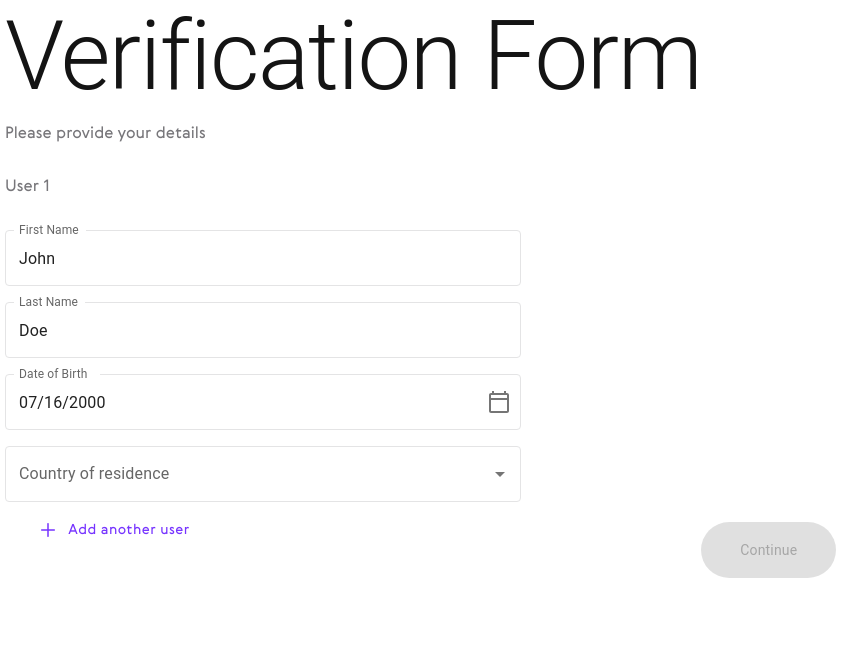
it: BusinessDetailsForm › should disabled the continue button &  display error message on the wrong first/last name input
Step 1. Replace the text in the field labelled "First Name" with "Rose1" → (263, 258), box [5,230,521,286]
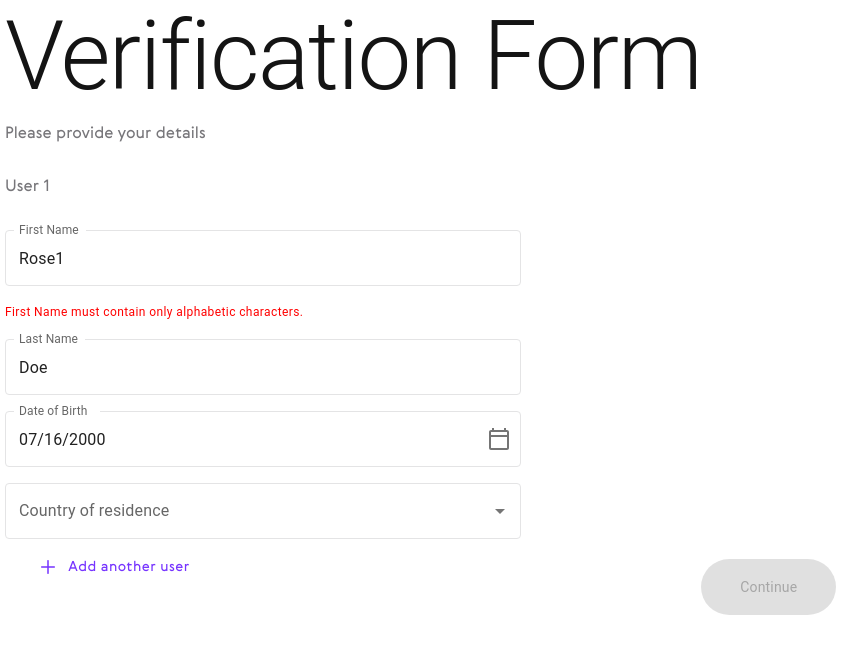
Step 2. Replace the text in the field labelled "Last Name" with "Genner1" → (263, 367), box [5,339,521,395]
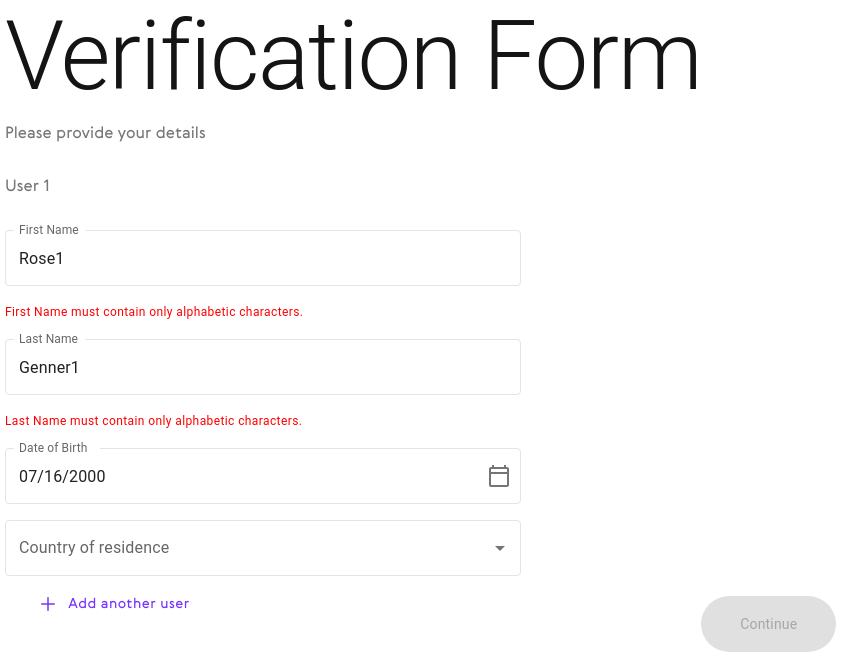
Check: the button "Continue" is disabled, box [701,596,836,652]
Check: the text "First Name must contain only alphabetic characters." is shown, box [5,305,303,319]
Check: the text "Last Name must contain only alphabetic characters." is shown, box [5,414,302,428]
